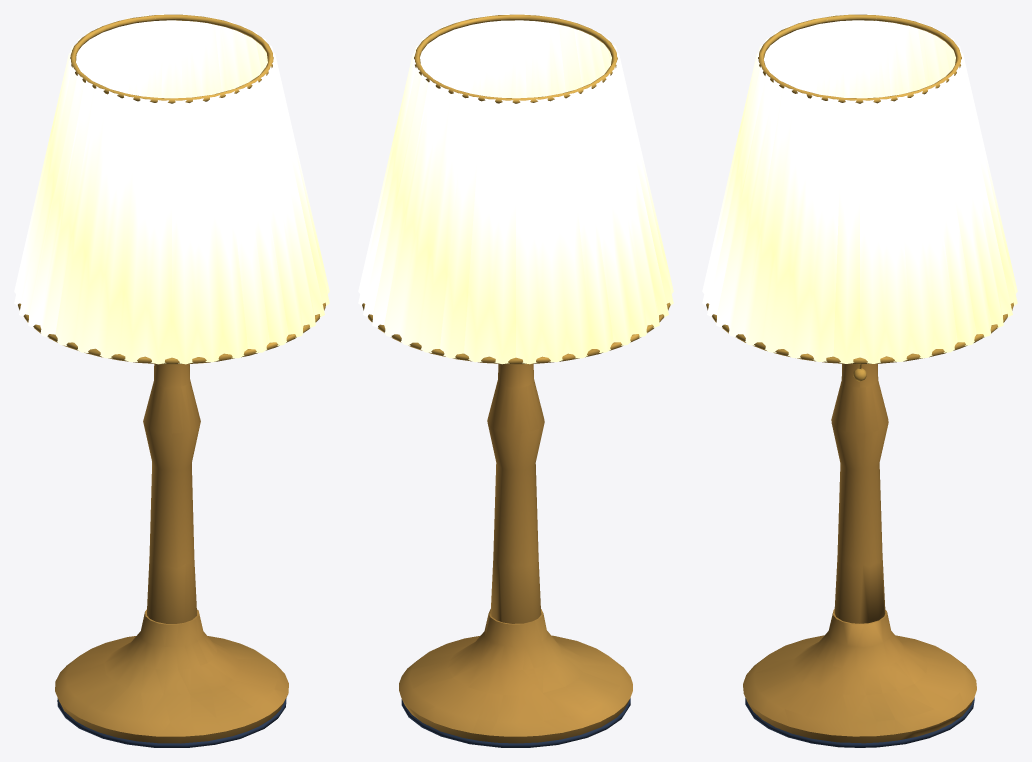
File: frost_lamp_lod1.glb
3 views of the same model, side by side, from view 1: azimuth 30°, elevation 25°; view 2: azimuth 150°, elevation 25°; view 3: azimuth 270°, elevation 25° (orthographic).
Visible parts, largest first — view 1: frost_lamp.001; view 2: frost_lamp.001; view 3: frost_lamp.001.
Boxes of the visible parts, x1,y1,x2,y2 form: frost_lamp.001: [14, 14, 329, 747]; frost_lamp.001: [358, 14, 673, 747]; frost_lamp.001: [702, 14, 1017, 747].
Bounding box in the file's own units: 41.73 × 93.8 × 41.73.
